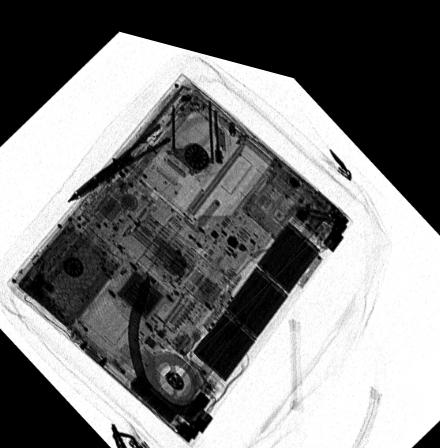Scissors: (60, 76, 219, 204)
